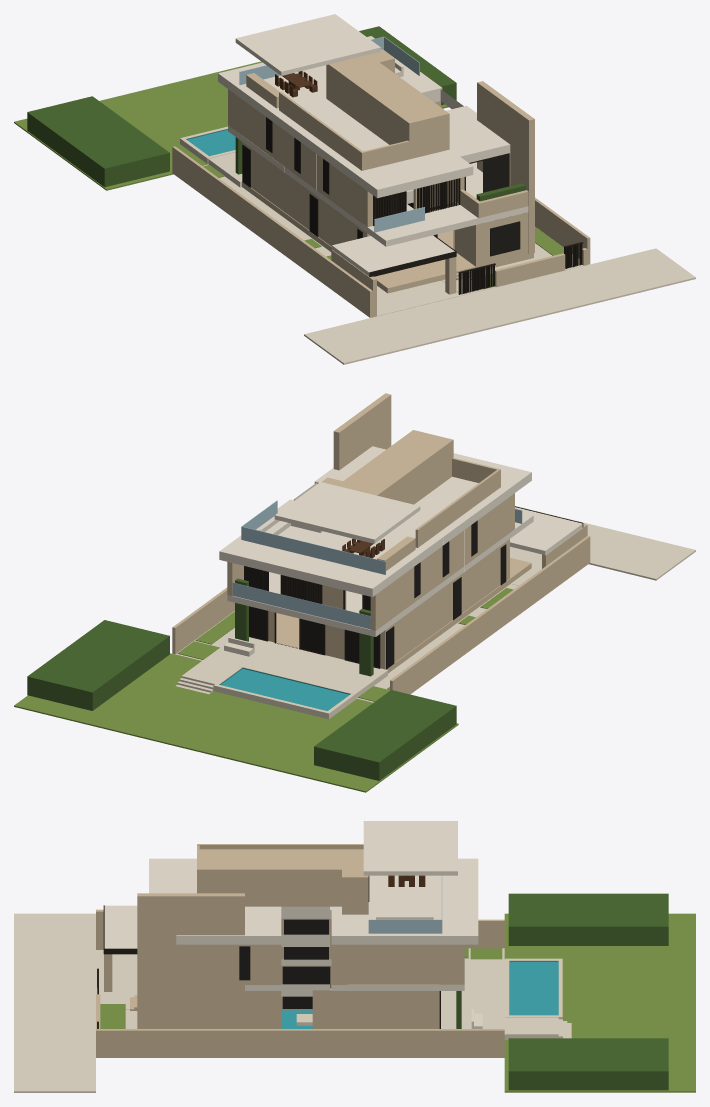
The model's file is villa_v12.glb.
The picture shows the model from 3 angles, top to bottom: view 1: azimuth 30°, elevation 25°; view 2: azimuth 150°, elevation 25°; view 3: azimuth 270°, elevation 25°; orthographic projection. The views are drawn at different scales.
Visible parts, largest first — view 1: GROUND_street_verge, HEDGE_context_rear_left, RF_core, CONTEXT_lawn_beyond_plot (NOT PLOT), WALL_side_left, RF_canopy, ROOF_f, STONE_FIN (render-sourced, not on plan), ROOF_r, GF_plinth, CARPORT_canopy (render-sourced, not on plan), SLAB_FF_front_ext (+26 smaller); view 2: CONTEXT_lawn_beyond_plot (NOT PLOT), HEDGE_context_rear_right, HEDGE_context_rear_left, ROOF_r, WALL_side_left, RF_canopy, RF_core, DECK_rear_strip, GROUND_street_verge, STONE_FIN (render-sourced, not on plan), ROOF_f, POOL_water (v3 9.50 x 3.60) (+26 smaller); view 3: CONTEXT_lawn_beyond_plot (NOT PLOT), GROUND_street_verge, WALL_side_right, STONE_FIN (render-sourced, not on plan), HEDGE_context_rear_left, HEDGE_context_rear_right, RF_core, ROOF_r, RF_canopy, FF_rear, FF_front, GF_rear (+22 smaller).
Part boxes in pixels (bbox=[...]): GROUND_street_verge: bbox=[304, 248, 695, 364]; HEDGE_context_rear_left: bbox=[27, 96, 169, 187]; RF_core: bbox=[326, 54, 449, 159]; CONTEXT_lawn_beyond_plot (NOT PLOT): bbox=[14, 61, 448, 190]; WALL_side_left: bbox=[172, 146, 372, 317]; RF_canopy: bbox=[235, 14, 380, 75]; ROOF_f: bbox=[313, 129, 473, 198]; STONE_FIN (render-sourced, not on plan): bbox=[477, 81, 534, 254]; ROOF_r: bbox=[218, 36, 442, 133]; GF_plinth: bbox=[242, 182, 533, 293]; CARPORT_canopy (render-sourced, not on plan): bbox=[332, 235, 454, 276]; SLAB_FF_front_ext: bbox=[368, 205, 528, 246]; CONTEXT_lawn_beyond_plot (NOT PLOT): bbox=[14, 653, 458, 792]; HEDGE_context_rear_right: bbox=[27, 620, 169, 710]; HEDGE_context_rear_left: bbox=[314, 690, 456, 780]; ROOF_r: bbox=[219, 499, 443, 596]; WALL_side_left: bbox=[390, 535, 590, 694]; RF_canopy: bbox=[274, 482, 420, 543]; RF_core: bbox=[337, 430, 453, 504]; DECK_rear_strip: bbox=[208, 637, 387, 697]; GROUND_street_verge: bbox=[515, 506, 695, 580]; STONE_FIN (render-sourced, not on plan): bbox=[333, 393, 391, 470]; ROOF_f: bbox=[414, 453, 531, 526]; POOL_water (v3 9.50 x 3.60): bbox=[221, 668, 349, 710]; CONTEXT_lawn_beyond_plot (NOT PLOT): bbox=[504, 913, 695, 1092]; GROUND_street_verge: bbox=[14, 913, 95, 1092]; WALL_side_right: bbox=[96, 1029, 504, 1057]; STONE_FIN (render-sourced, not on plan): bbox=[137, 893, 244, 1028]; HEDGE_context_rear_left: bbox=[508, 893, 668, 945]; HEDGE_context_rear_right: bbox=[508, 1038, 668, 1090]; RF_core: bbox=[197, 849, 363, 906]; ROOF_r: bbox=[331, 858, 478, 944]; RF_canopy: bbox=[363, 821, 457, 875]; FF_rear: bbox=[331, 944, 439, 984]; FF_front: bbox=[184, 944, 281, 984]; GF_rear: bbox=[347, 991, 439, 1028].
Size of what is drawn, in the model's own units: 30.73 by 13.05 by 49.89.
